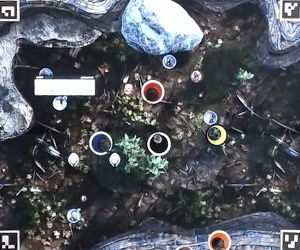black: (148, 132, 171, 155)
blue: (88, 130, 111, 153)
lime_green_violet: (209, 123, 232, 146)
orange: (205, 227, 232, 249)
red: (143, 81, 166, 104)
